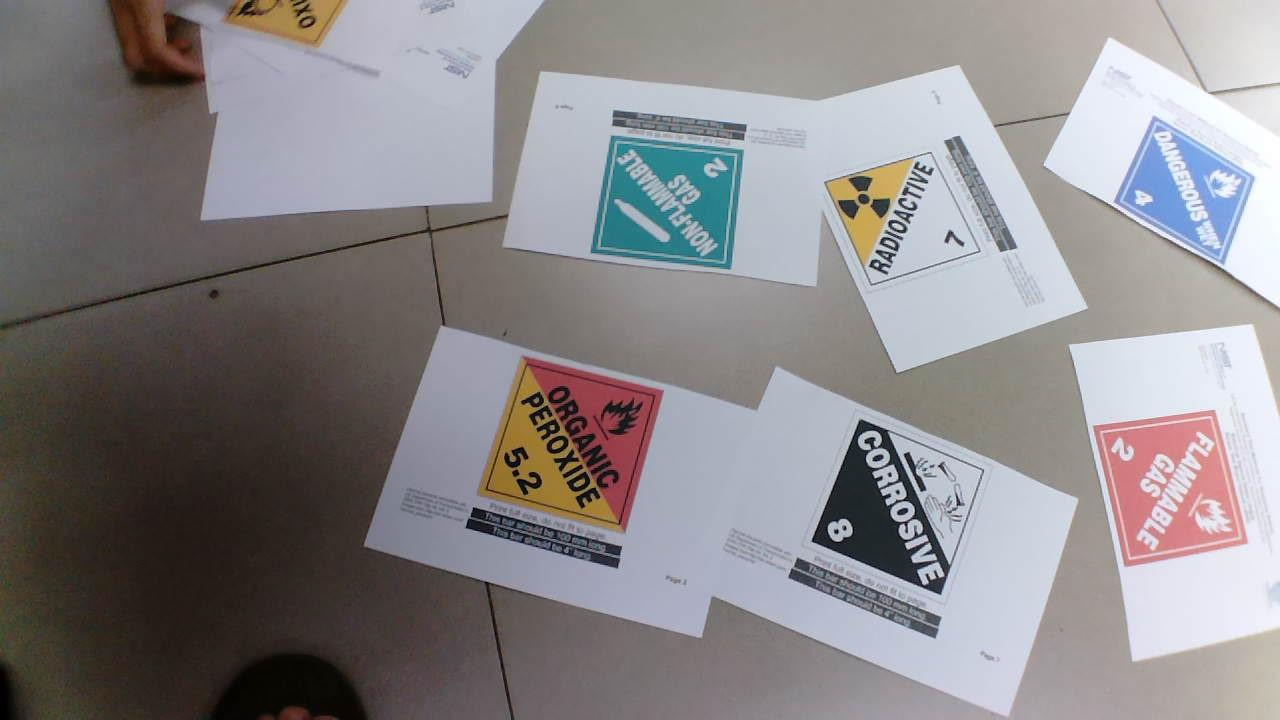corrosive: (816, 403, 993, 607)
dangerous-when-wet: (1116, 114, 1256, 272)
flammable: (1090, 407, 1255, 566)
non-flammable-gas: (599, 138, 757, 282)
organic-peroxide: (473, 354, 673, 540)
radioactive: (822, 146, 990, 289)
